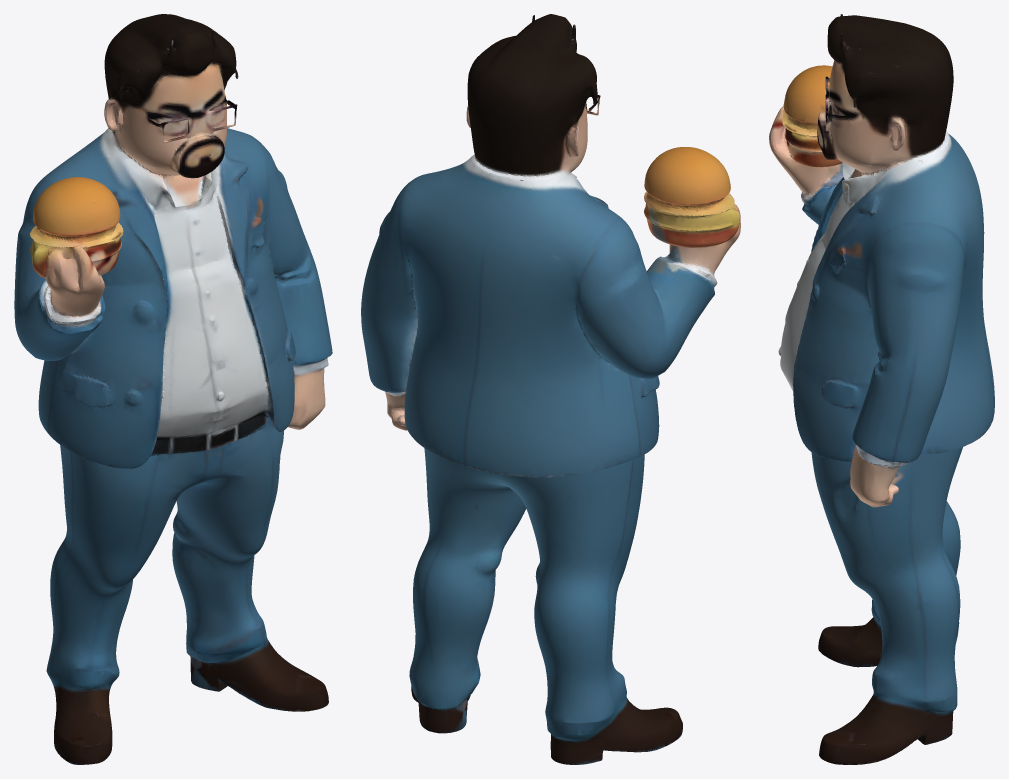
Rendered from base_basic_pbr_1790662051664.glb.
The picture shows the model from 3 angles, left to right: view 1: azimuth 30°, elevation 25°; view 2: azimuth 150°, elevation 25°; view 3: azimuth 270°, elevation 25°; orthographic projection. The views are drawn at different scales.
Visible parts, largest first — view 1: model; view 2: model; view 3: model.
Part boxes in pixels (<box>): model: <box>14,14,332,764</box>; model: <box>361,14,740,764</box>; model: <box>769,14,994,764</box>.
Size of the model in its own units: 0.9418 by 1.9 by 0.5689.
Materials: 1 (1 with a texture image).
